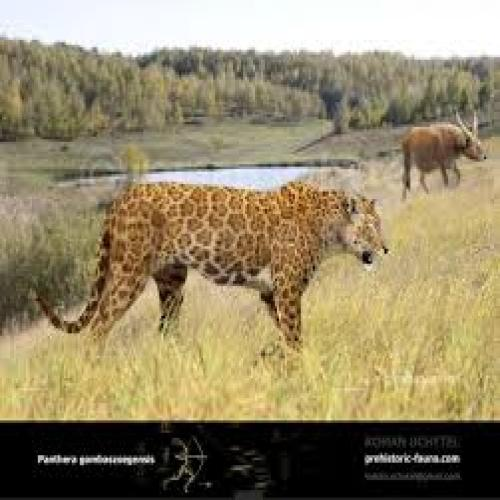jaguar_not-endangered: (38, 184, 391, 346)
